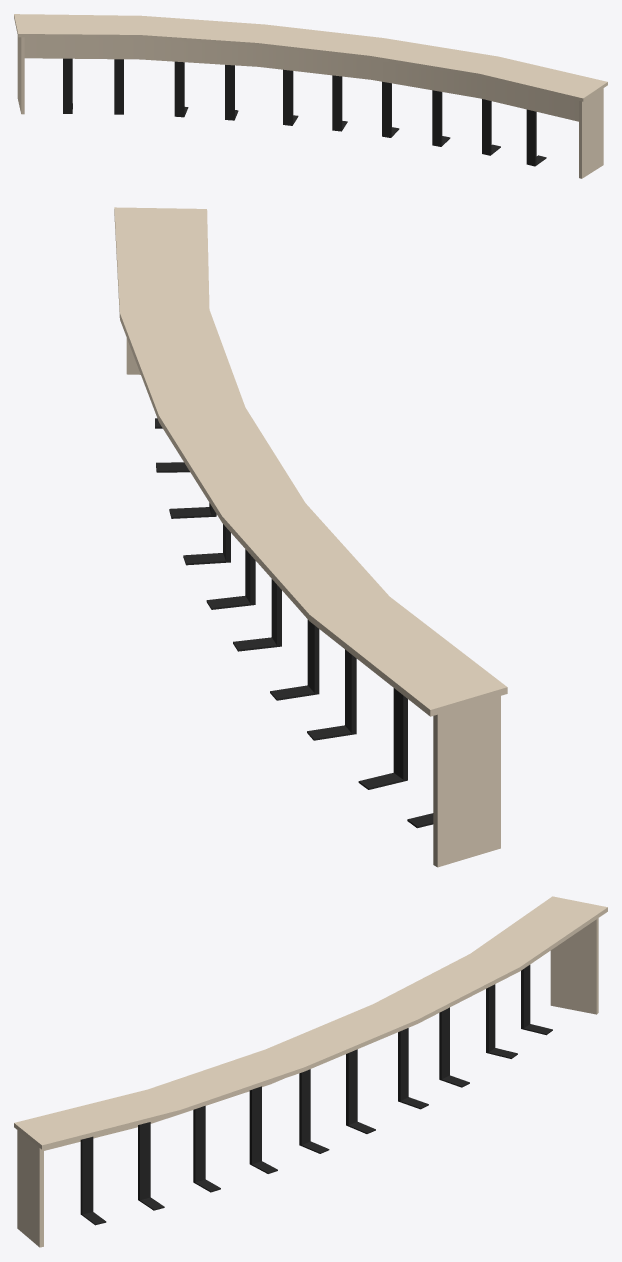
Rendered from AmphiGrandBanc.fbx.
3 views of the same model, one above another, from view 1: azimuth 30°, elevation 25°; view 2: azimuth 150°, elevation 25°; view 3: azimuth 270°, elevation 25° (orthographic). The views are drawn at different scales.
Parts seen in each view (by area): view 1: amphi:polySurface2, pCube5, pCube7, pCube9, pCube10, pCube11, pCube6, pCube8, pCube12, pCube13, pCube14; view 2: amphi:polySurface2, pCube14, pCube11, pCube12, pCube10, pCube9; view 3: amphi:polySurface2, pCube5, pCube6, pCube8, pCube7, pCube9, pCube10, pCube12, pCube11, pCube14, pCube13.
Boxes of the visible parts, x1,y1,x2,y2 form: amphi:polySurface2: (14,14,607,178); pCube5: (526,109,546,166); pCube7: (432,90,450,146); pCube9: (332,75,347,131); pCube10: (283,69,298,125); pCube11: (174,61,188,117); pCube6: (482,99,500,155); pCube8: (382,81,399,137); pCube12: (225,65,238,120); pCube13: (63,58,72,113); pCube14: (114,59,123,114); amphi:polySurface2: (114,207,507,867); pCube14: (358,688,407,789); pCube11: (307,649,356,740); pCube12: (270,619,319,700); pCube10: (233,579,281,651); pCube9: (206,549,255,609); amphi:polySurface2: (14,896,607,1247); pCube5: (80,1136,106,1225); pCube6: (138,1122,164,1210); pCube8: (249,1086,277,1173); pCube7: (193,1105,220,1192); pCube9: (299,1069,329,1153); pCube10: (346,1049,375,1133); pCube12: (398,1028,428,1109); pCube11: (439,1007,469,1087); pCube14: (486,984,517,1058); pCube13: (521,965,552,1035).
Bounding box in the file's own units: 115 × 22.71 × 116.
